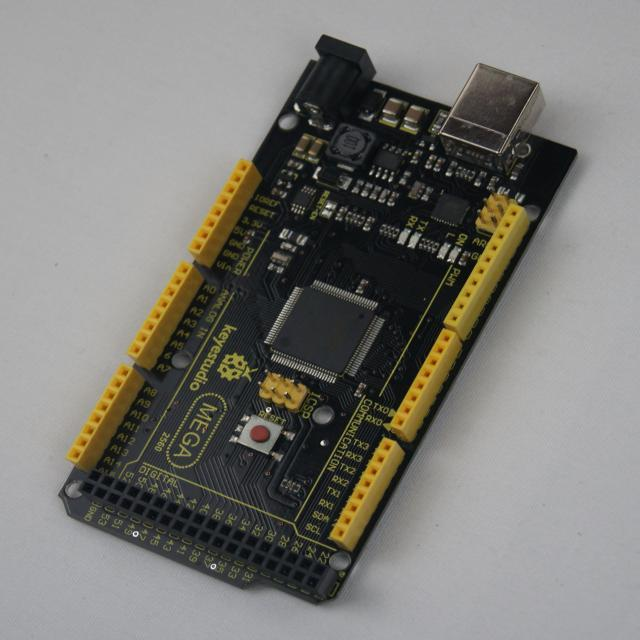Arduino Mega 2560 -Yellow-: (60, 36, 576, 604)
